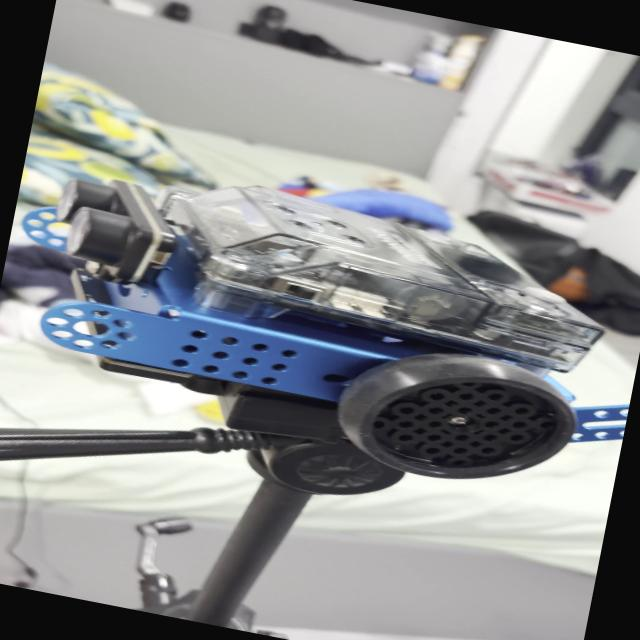mbot-detection: (0, 134, 640, 517)
